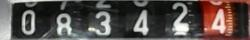digits: (171, 2, 190, 36), (208, 5, 227, 37), (86, 10, 110, 35), (132, 8, 149, 34), (20, 9, 36, 34), (56, 12, 72, 35)
